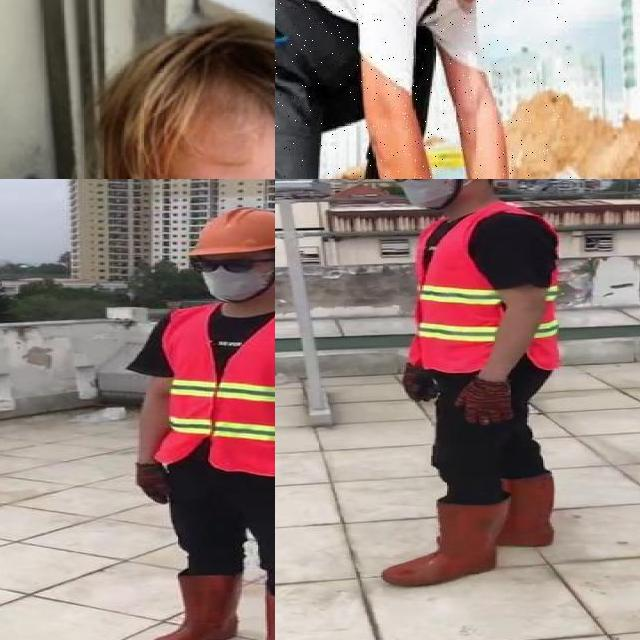boots: (379, 500, 498, 587), (144, 574, 243, 640), (495, 475, 552, 548)
face_mask: (190, 252, 272, 302)
glasses: (180, 252, 270, 276)
hand_glove: (134, 462, 172, 505)
head_helmet: (184, 207, 275, 262)
head_nohelmet: (111, 29, 275, 169)
person: (369, 179, 570, 594), (127, 199, 275, 640), (275, 0, 571, 179), (40, 24, 275, 179)
vest: (408, 209, 568, 370), (154, 302, 275, 472)
